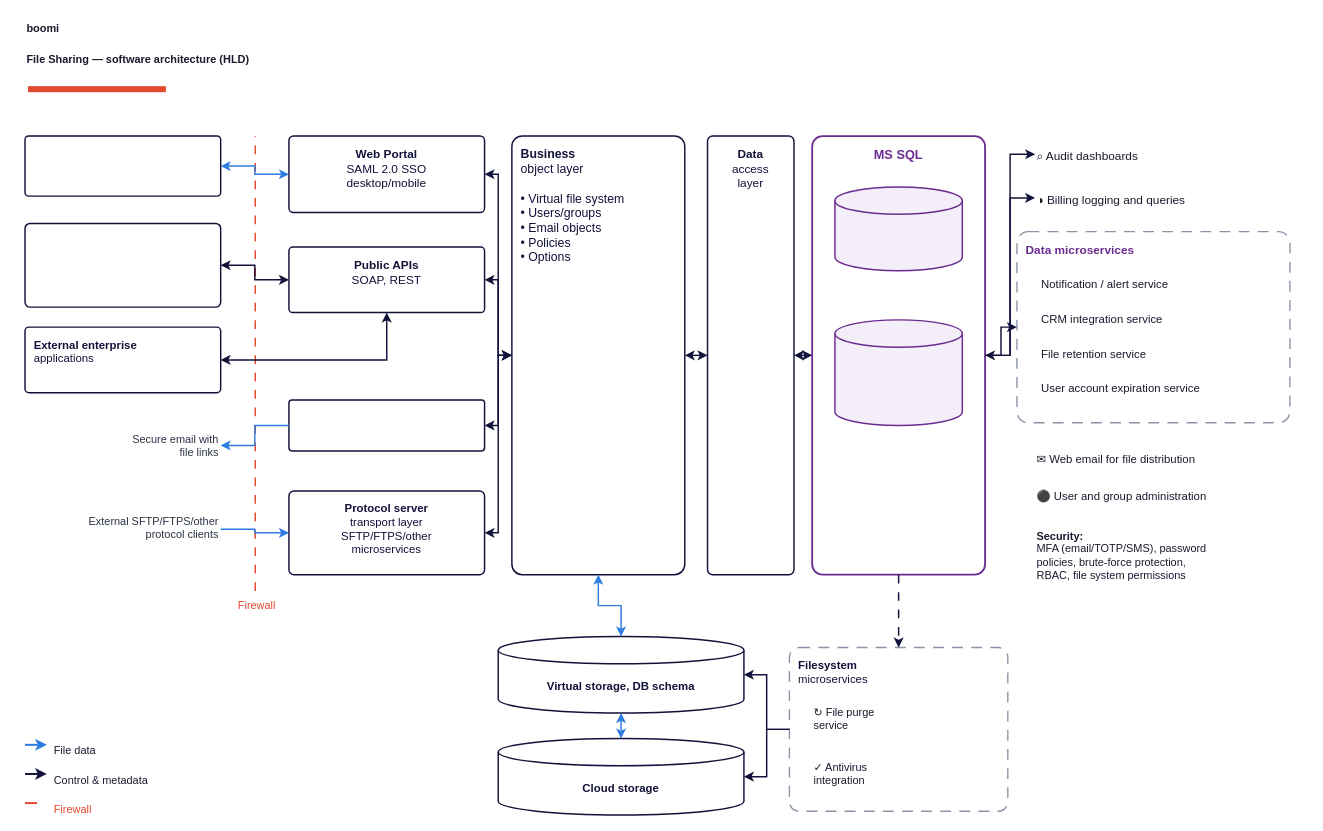
This 1323x831 diagram has some shape labels left out. The centre of each missing label's shape, as x and y in pixels:
Apps & Add-ins: Office/Outlook, Salesforce, Mobile, Other: point (122, 264)
Multi-tenant Site DBs: point (898, 372)
Routing DB: point (898, 228)
SMTP: point (386, 425)
User (web / mobile): point (122, 165)
